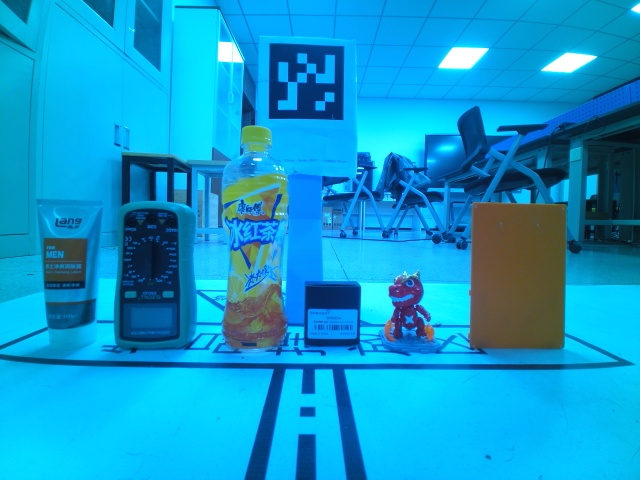banzi: (303, 279, 361, 348)
binghongcha: (379, 269, 442, 354)
dabao: (33, 196, 103, 350)
dianbiao: (221, 127, 290, 353)
hezi: (113, 200, 196, 350)
long: (468, 202, 568, 351)
